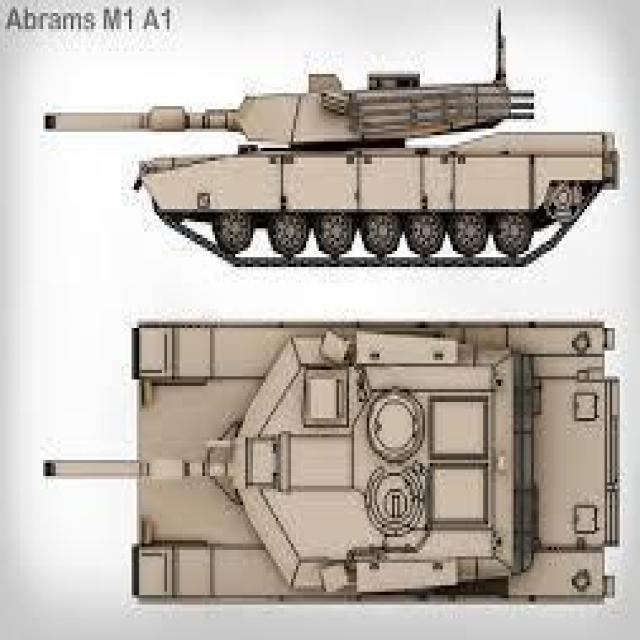Tanks: (38, 300, 577, 612), (43, 63, 564, 265)
